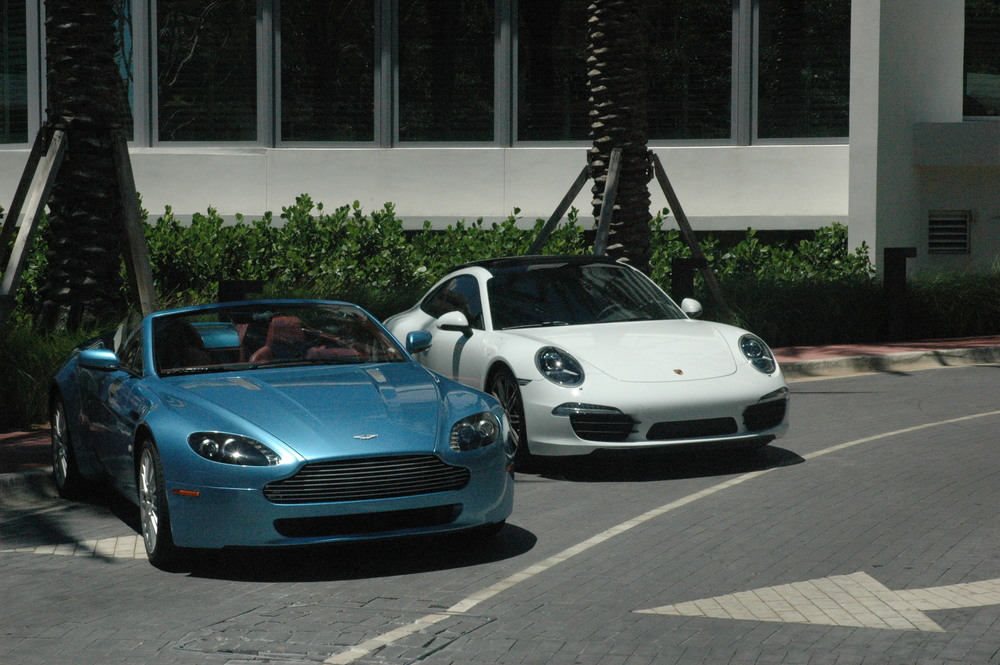car: (46, 292, 511, 570), (400, 254, 796, 464)
